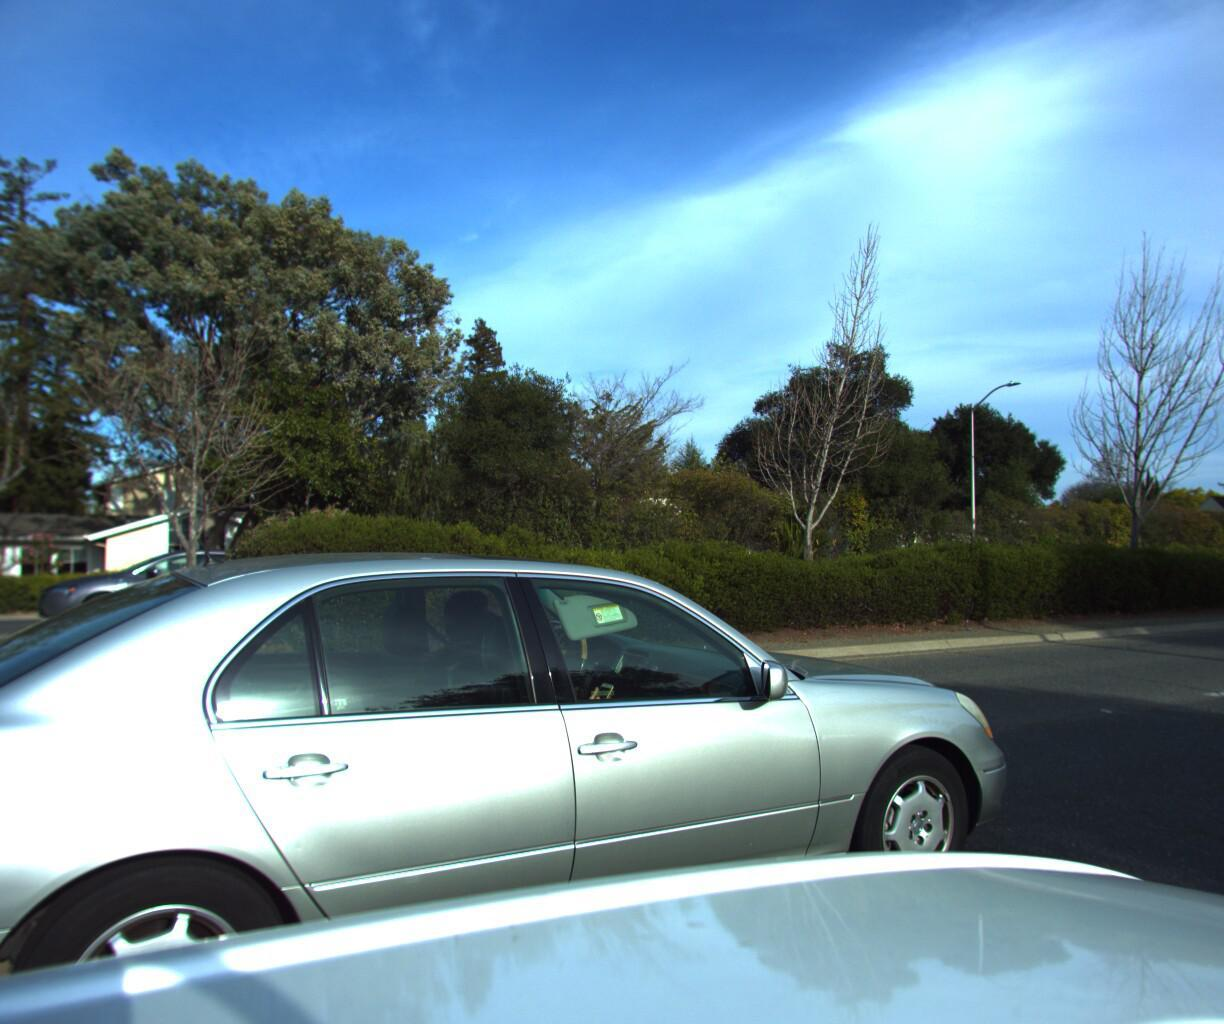car: (0, 545, 1049, 1024), (23, 543, 309, 629)
